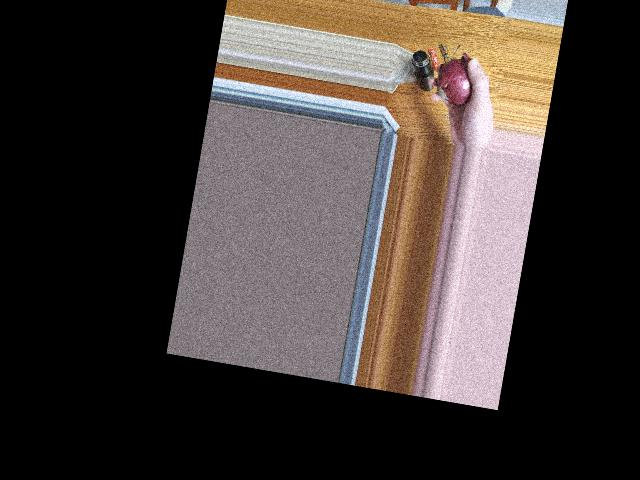onion: (438, 57, 478, 104)
